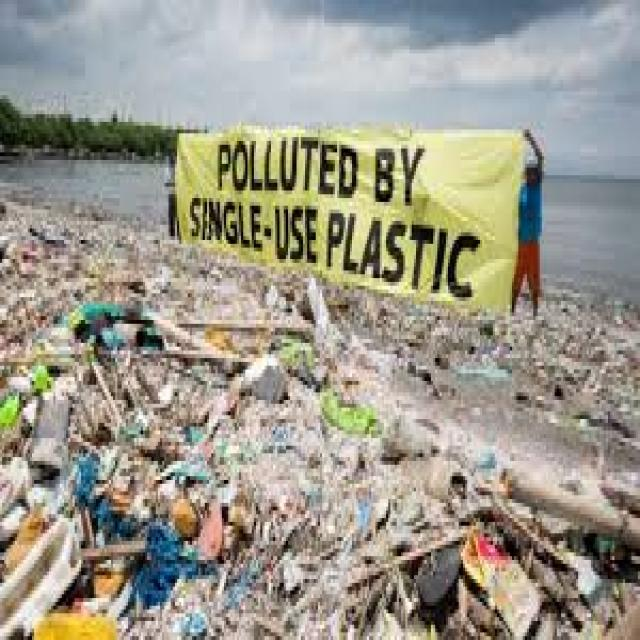plastic: (12, 283, 340, 640)
